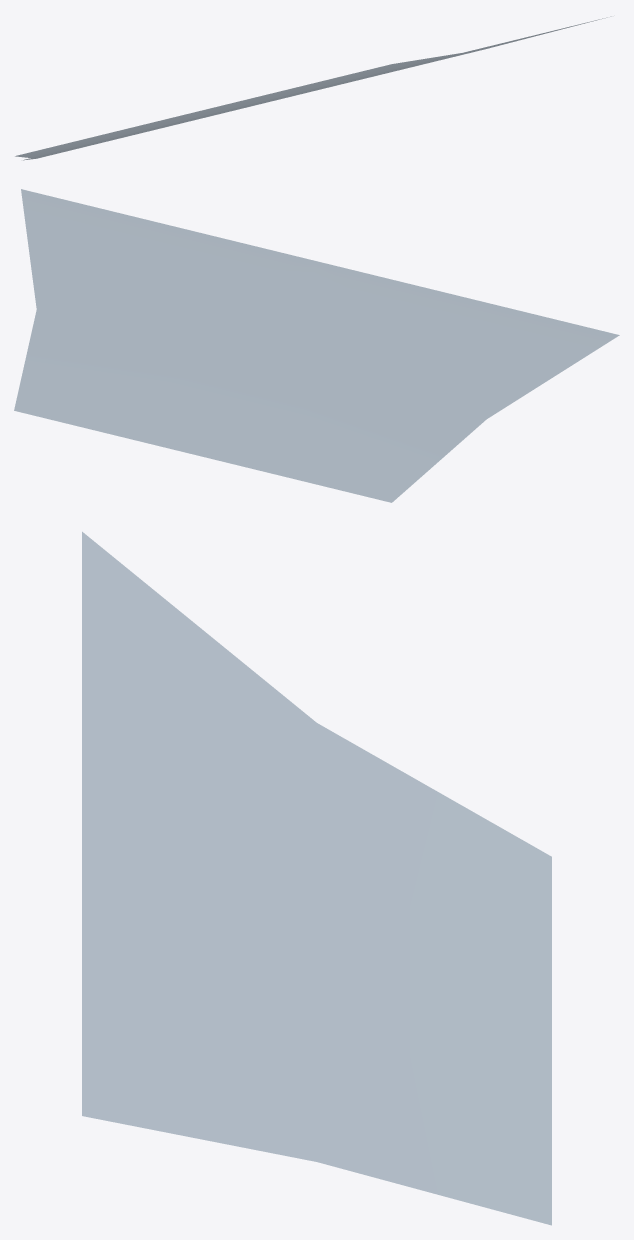
File: inferior-pubic-ligament.glb
3 views of the same model, one above another, from view 1: azimuth 30°, elevation 25°; view 2: azimuth 150°, elevation 25°; view 3: azimuth 270°, elevation 25° (orthographic). The views are drawn at different scales.
Parts seen in each view (by area): view 1: Inferior pubic ligament; view 2: Inferior pubic ligament; view 3: Inferior pubic ligament.
Part boxes in pixels (x1,y1,x2,y2): Inferior pubic ligament: (15,16,611,160); Inferior pubic ligament: (14,189,619,502); Inferior pubic ligament: (82,531,551,1225).
Size of the model in its own units: 0.033 by 0.00572 by 0.0112.
